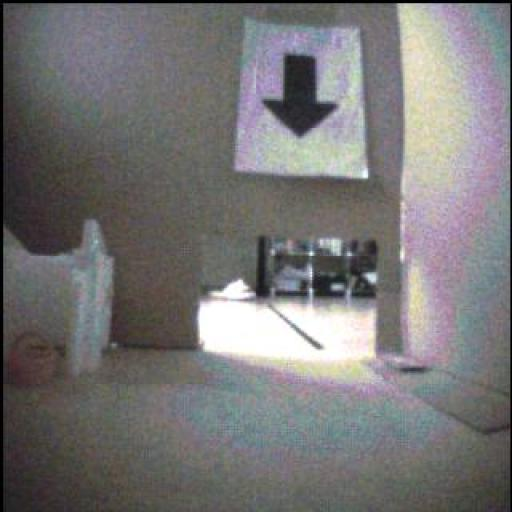arrow: (264, 56, 339, 139)
